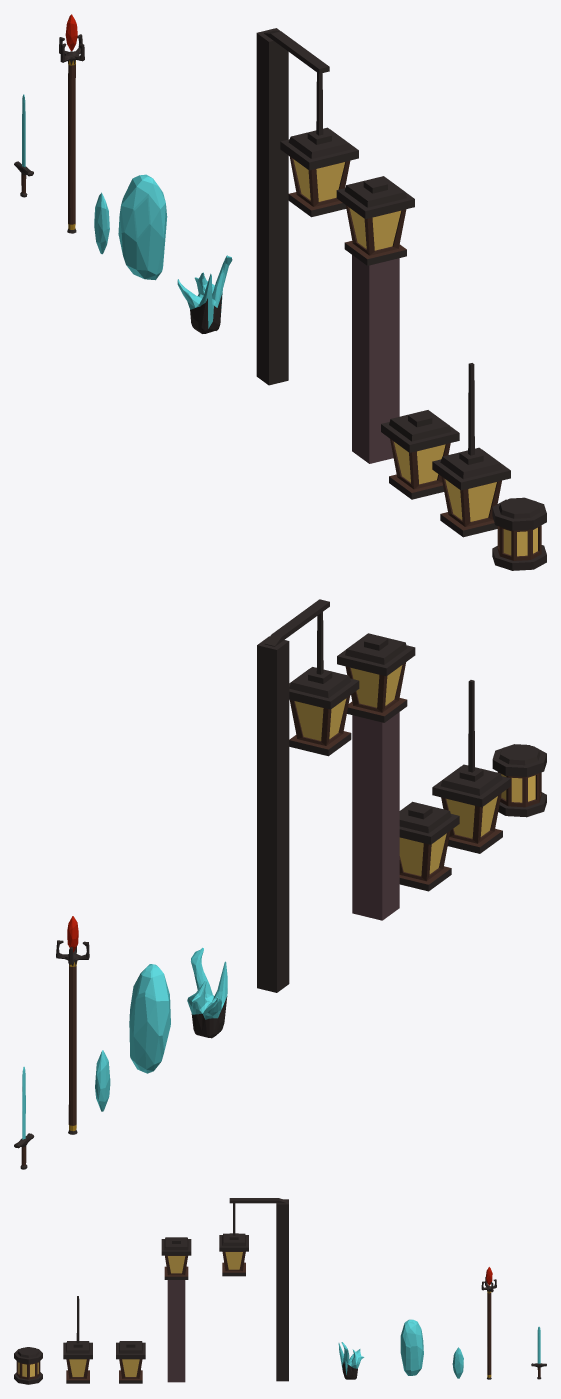
Rendered from Crystals_fixed.fbx.
The picture shows the model from 3 angles, top to bottom: view 1: azimuth 30°, elevation 25°; view 2: azimuth 150°, elevation 25°; view 3: azimuth 270°, elevation 25°; orthographic projection. The views are drawn at different scales.
Visible parts, largest first — view 1: Lantern_long, Light_pillar, Lantern_to_ceil, Lantern_v1, Light_mineral_v1, Lantern_v2, Wizard_wand, Light_mineral_v2, Light_mineral_v3; view 2: Lantern_long, Light_pillar, Lantern_to_ceil, Lantern_v1, Light_mineral_v1, Lantern_v2, Light_mineral_v2, Wizard_wand, Light_mineral_v3; view 3: Lantern_long, Light_pillar, Lantern_to_ceil, Light_mineral_v1, Lantern_v1, Lantern_v2, Wizard_wand, Light_mineral_v2, Light_mineral_v3, Diamond_sword.
Part boxes in pixels (x1,y1,x2,y2): Lantern_long: (256,28,358,385); Light_pillar: (336,176,414,463); Lantern_to_ceil: (432,363,510,537); Lantern_v1: (381,410,459,499); Light_mineral_v1: (118,174,167,280); Lantern_v2: (492,497,546,570); Wizard_wand: (59,14,84,233); Light_mineral_v2: (177,255,232,333); Light_mineral_v3: (94,192,109,254); Lantern_long: (257,599,359,992); Light_pillar: (337,633,415,920); Lantern_to_ceil: (432,680,510,853); Lantern_v1: (399,801,459,891); Light_mineral_v1: (129,964,170,1073); Lantern_v2: (492,744,546,817); Light_mineral_v2: (187,947,227,1038); Wizard_wand: (56,916,89,1134); Light_mineral_v3: (95,1050,110,1111); Lantern_long: (219,1198,288,1381); Light_pillar: (161,1237,191,1382); Lantern_to_ceil: (63,1296,92,1383); Light_mineral_v1: (400,1319,423,1375); Lantern_v1: (116,1341,145,1383); Lantern_v2: (14,1347,42,1384); Wizard_wand: (481,1267,496,1379); Light_mineral_v2: (338,1342,364,1379); Light_mineral_v3: (452,1347,463,1378); Diamond_sword: (531,1326,546,1379).
Bounding box in the file's own units: 122 × 816 × 2196.
